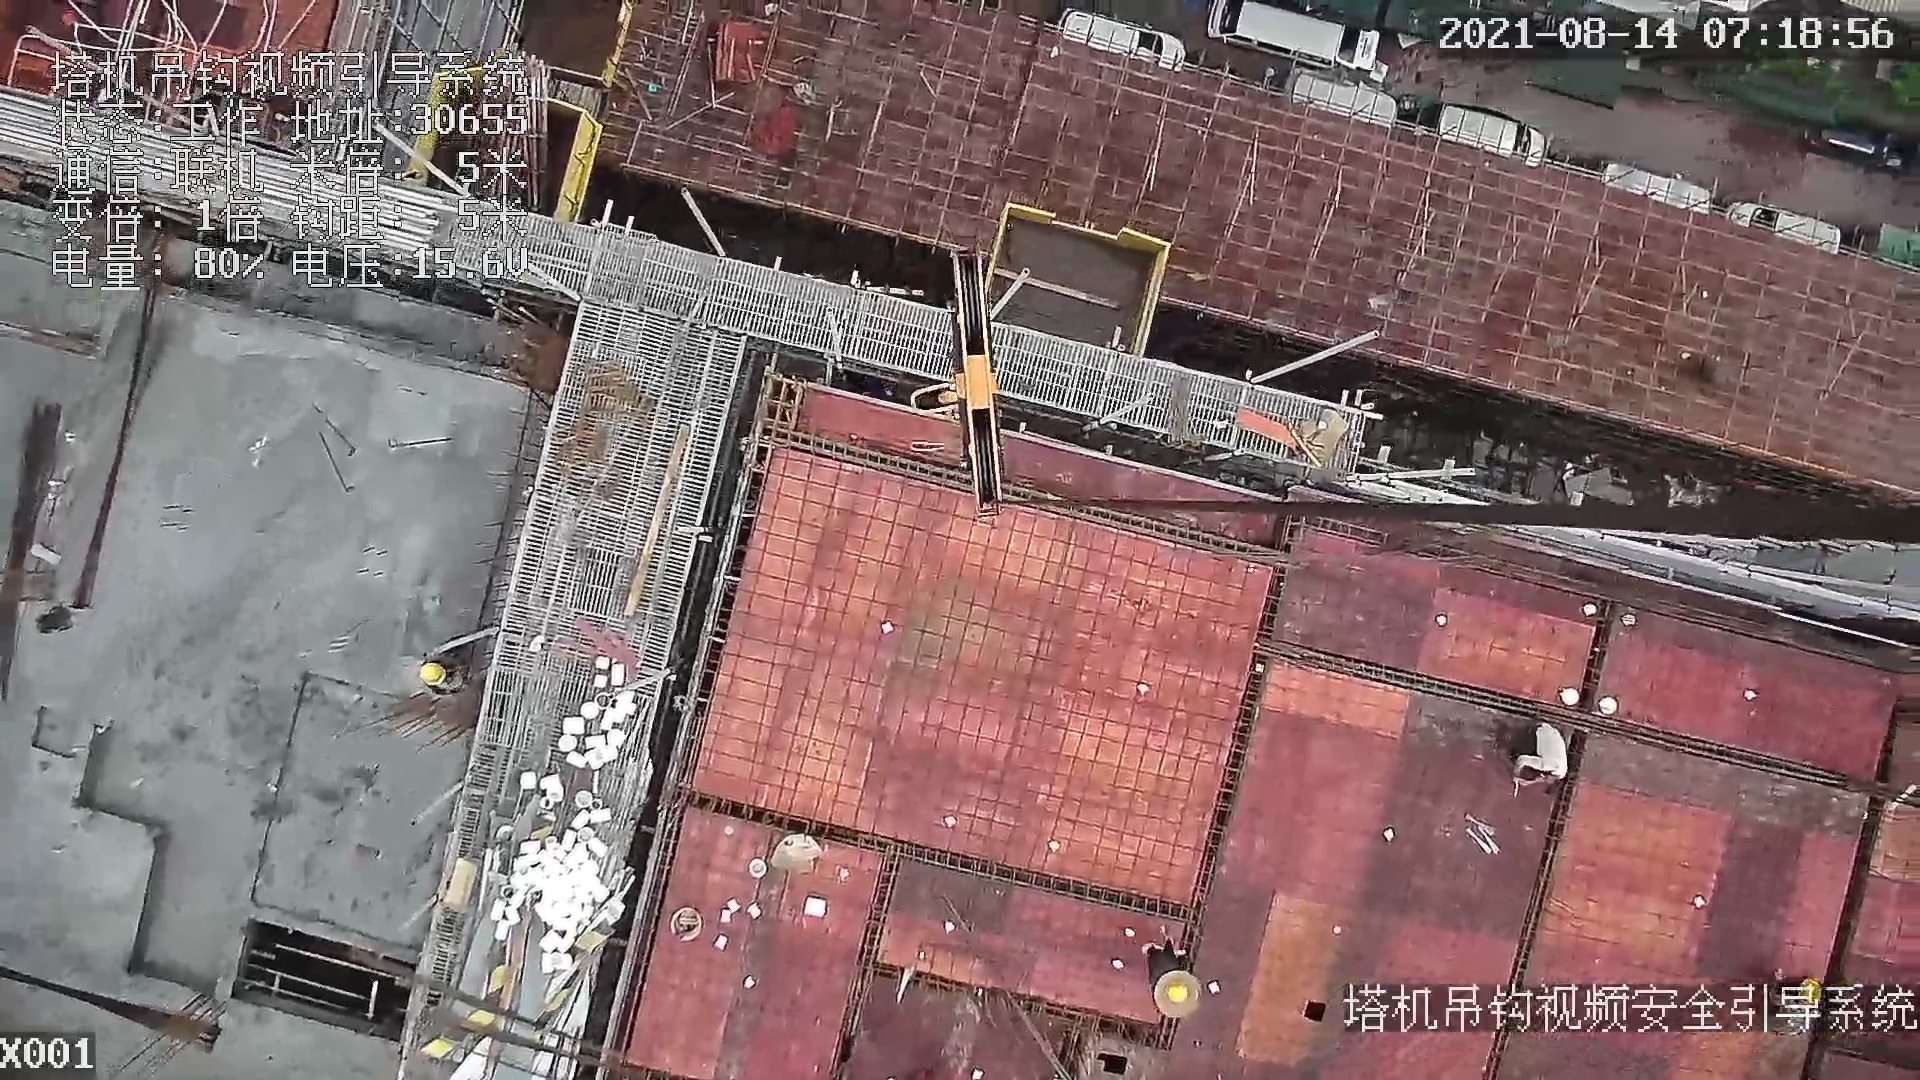helmet: (1164, 983, 1191, 1006), (419, 663, 440, 680)
hook: (908, 245, 1019, 517)
person: (1151, 927, 1218, 1028), (1510, 723, 1573, 797), (413, 654, 458, 689)
